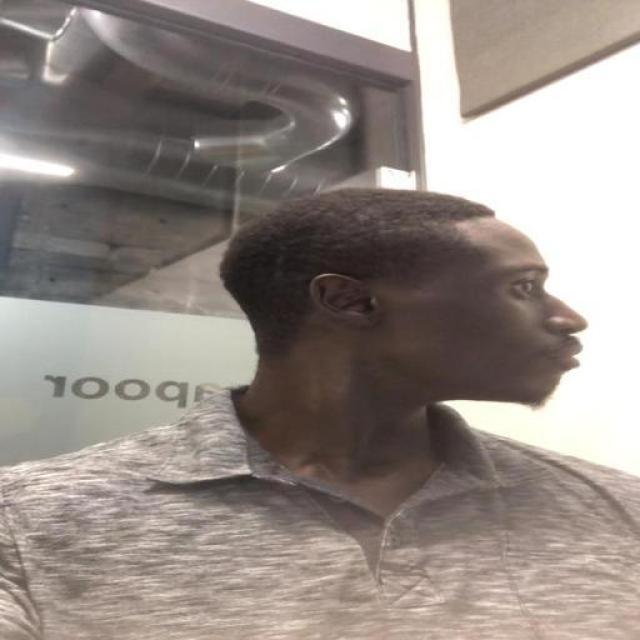bareface: (221, 203, 618, 433)
